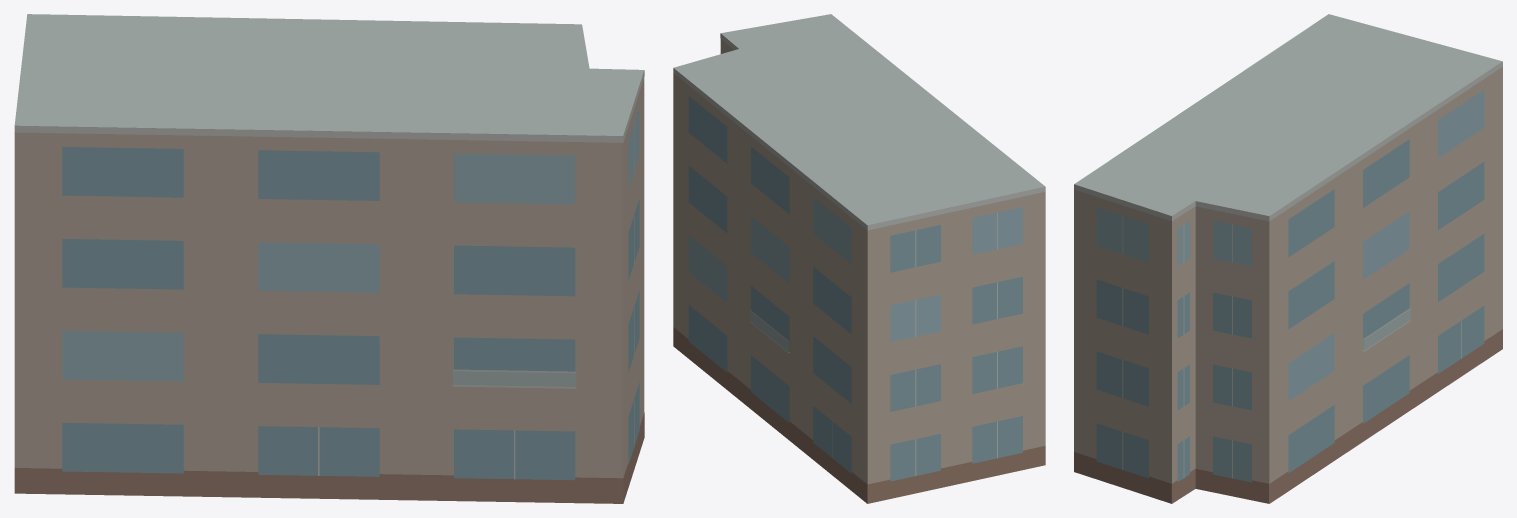
File: survey-upis-32618102.glb
3 renders of one model, left to right at view 1: azimuth 30°, elevation 25°; view 2: azimuth 150°, elevation 25°; view 3: azimuth 270°, elevation 25°, orthographic. The views are drawn at different scales.
Parts seen in each view (by area): view 1: survey-upis-32618102.tmp; view 2: survey-upis-32618102.tmp; view 3: survey-upis-32618102.tmp.
Boxes of the visible parts, x1,y1,x2,y2 form: survey-upis-32618102.tmp: (14,14,644,503); survey-upis-32618102.tmp: (673,14,1045,503); survey-upis-32618102.tmp: (1074,14,1502,503).
Size of the model in its own units: 20.12 by 13.35 by 18.04.
